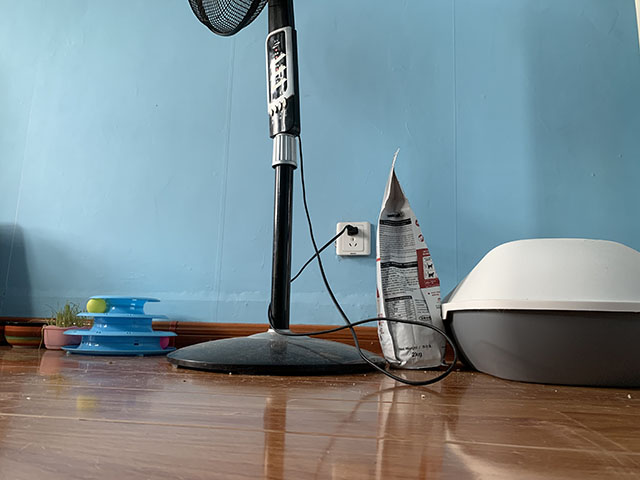wire: (267, 135, 460, 387)
